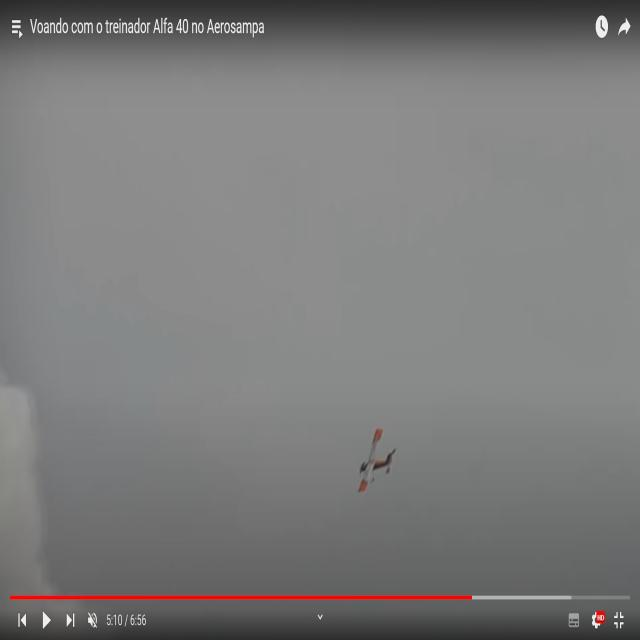iha: (358, 450, 398, 453)
